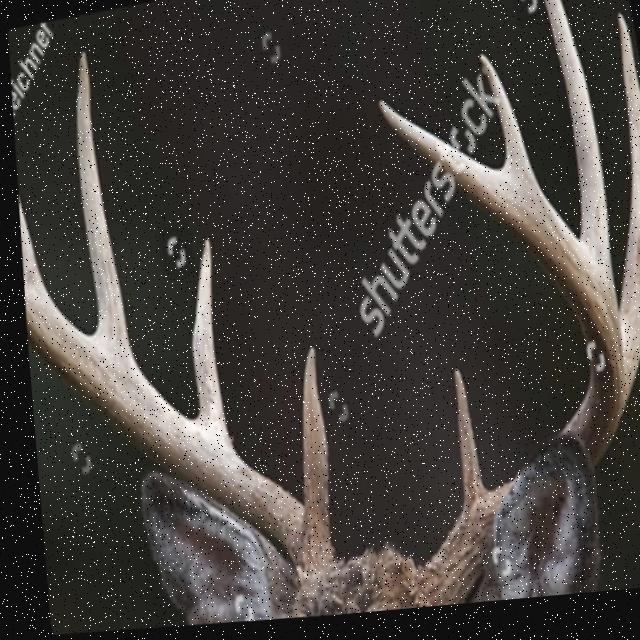L-G1: (446, 375, 477, 511)
L-G2: (610, 22, 640, 412)
L-G3: (540, 0, 609, 310)
L-G4: (475, 60, 534, 194)
R-G1: (291, 349, 320, 541)
R-G2: (184, 239, 224, 451)
R-G3: (74, 52, 127, 361)
R-G4: (15, 195, 37, 286)
